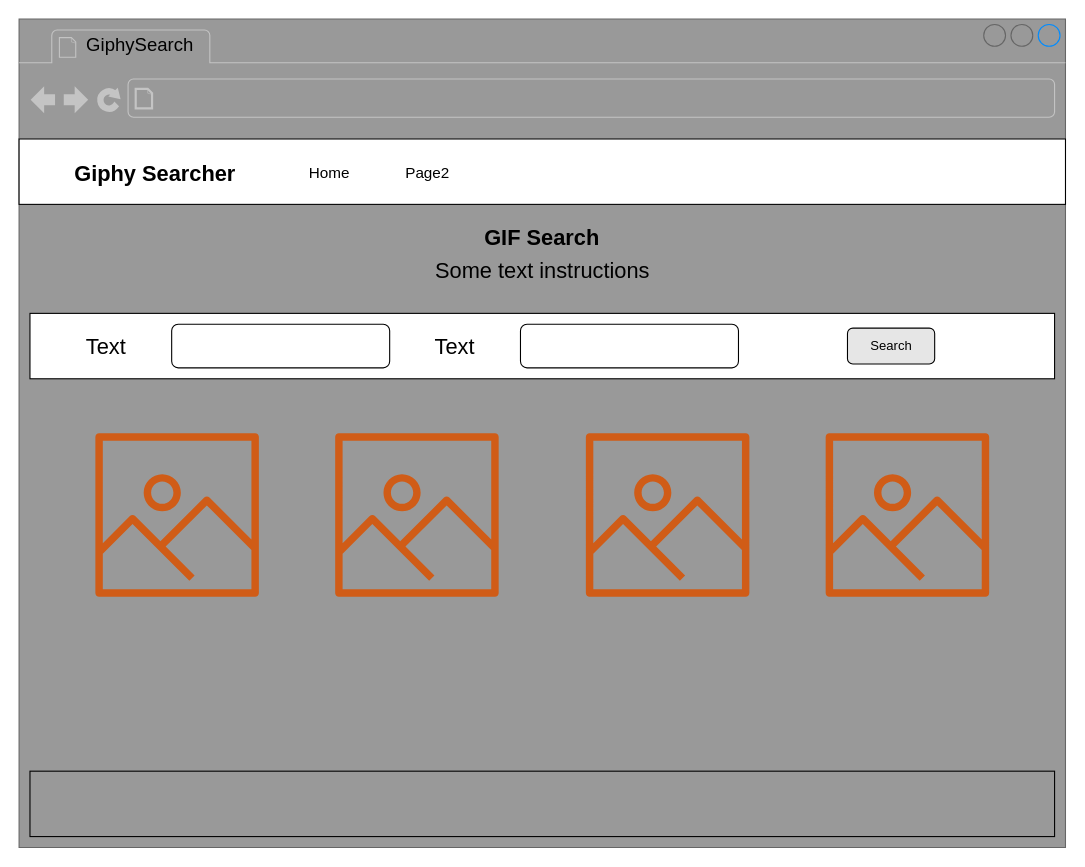
Some shapes in this 1085 by 867 pixel diagram are drawn without their labels. The shapes that lost their labels are listed below. From the top down, each one's centre as x and y in pixels, then its label:
[296,98]: file:///C:/Users/ericm/Documents/Projects/GiphySearchEngine/index.html
[542,803]: Footer
